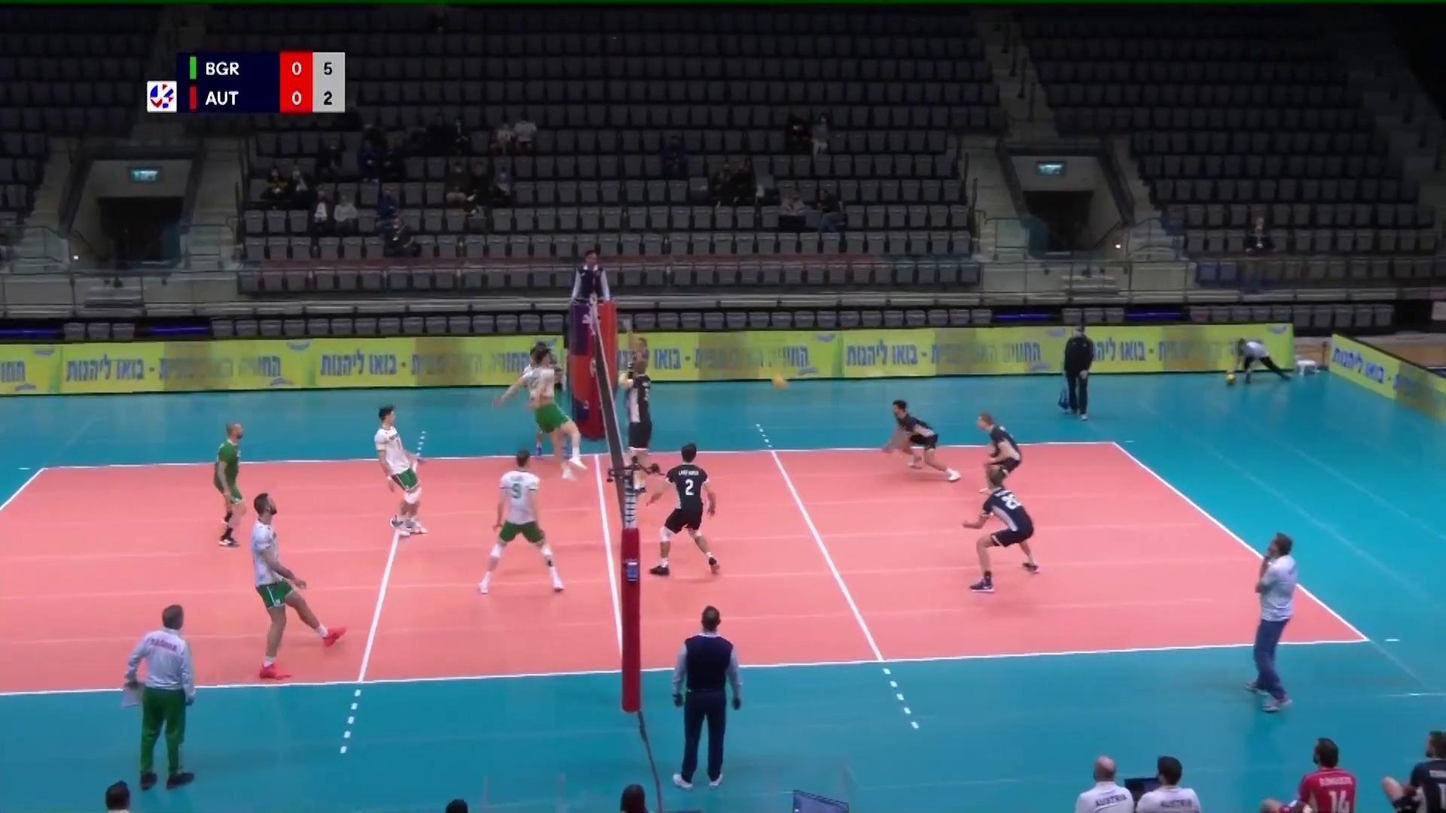ball: (771, 375, 788, 390)
